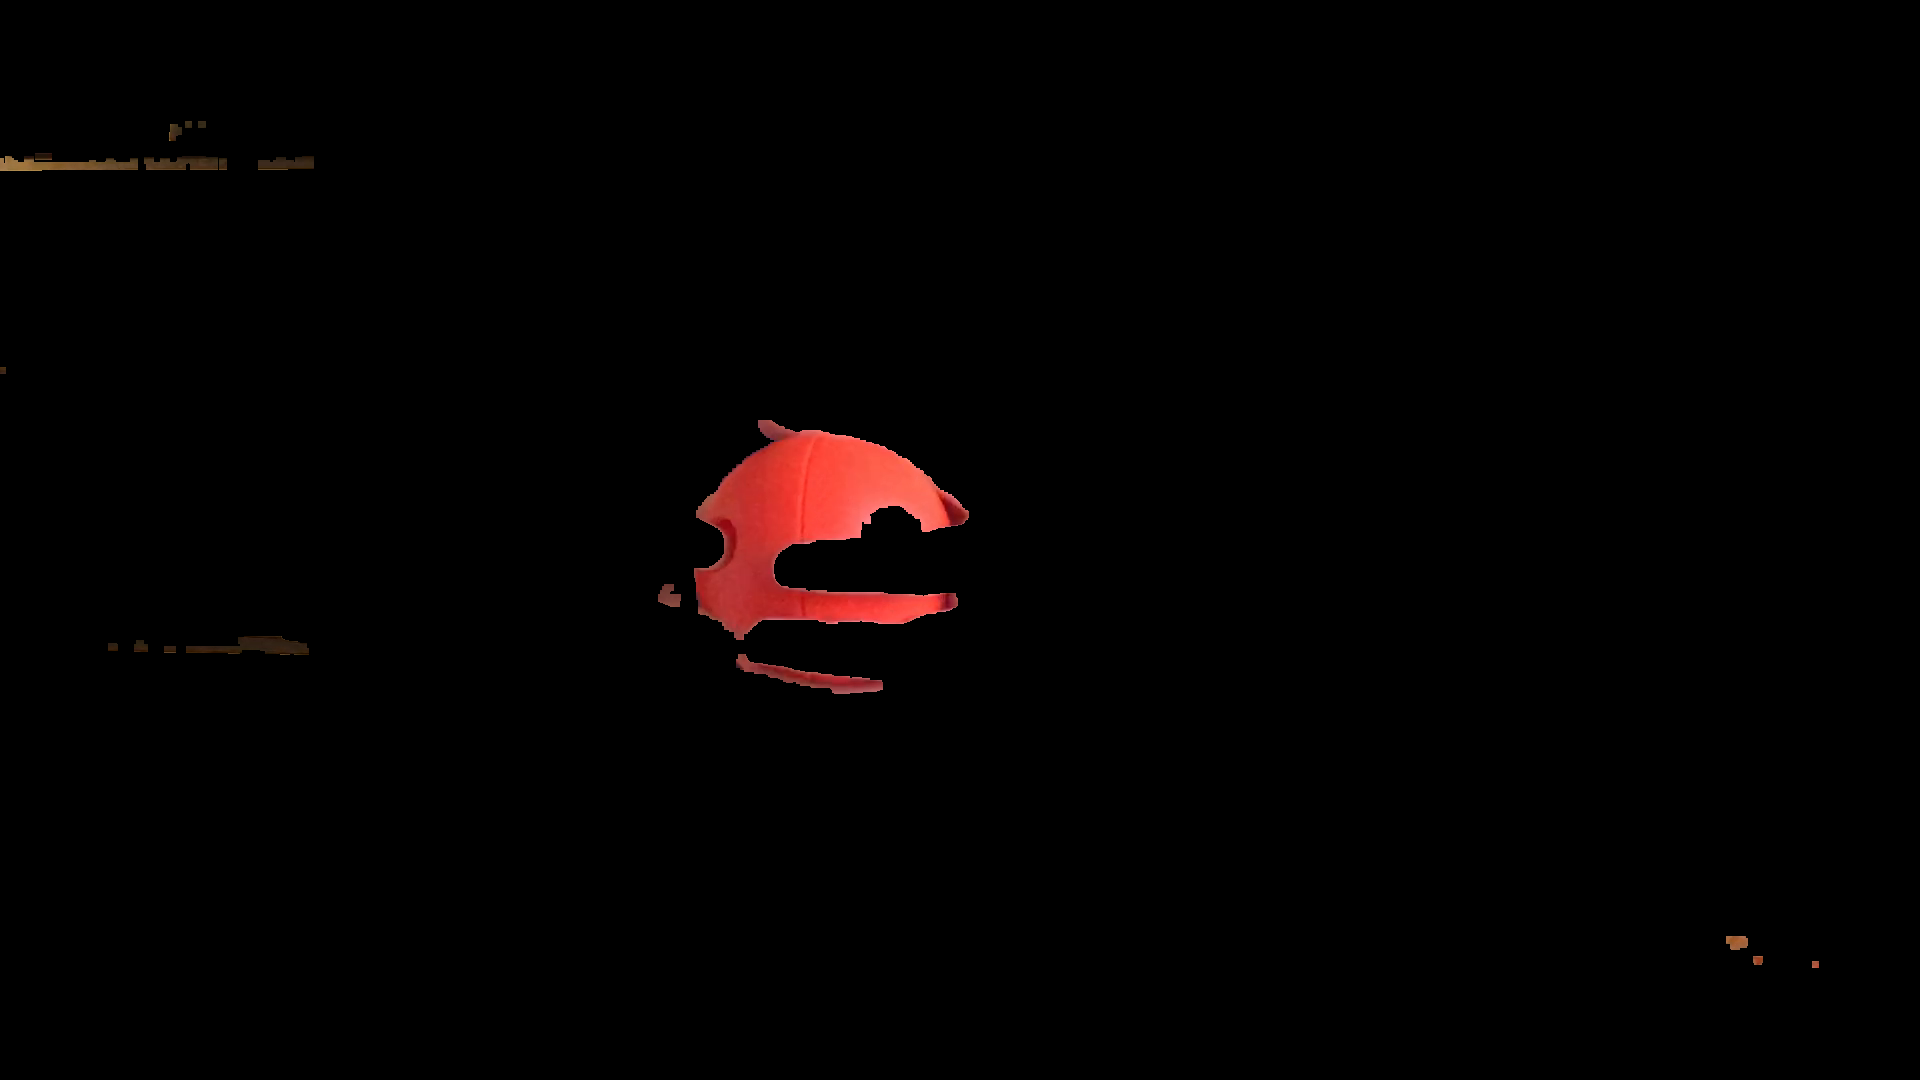Ball: (692, 425, 963, 698)
